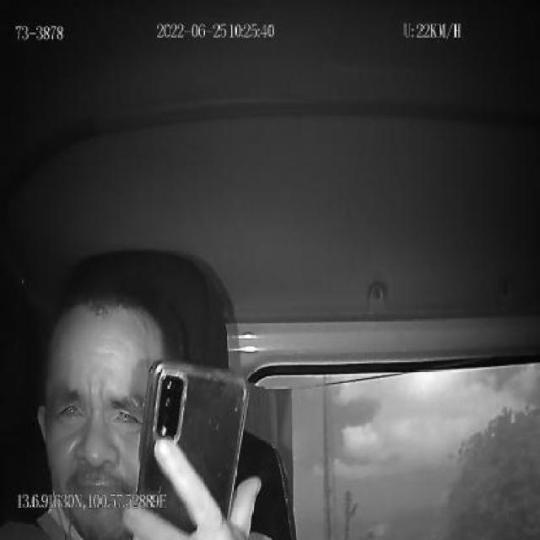phone: (135, 359, 248, 540)
